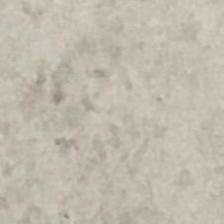Non_Crack: (15, 10, 215, 214)
